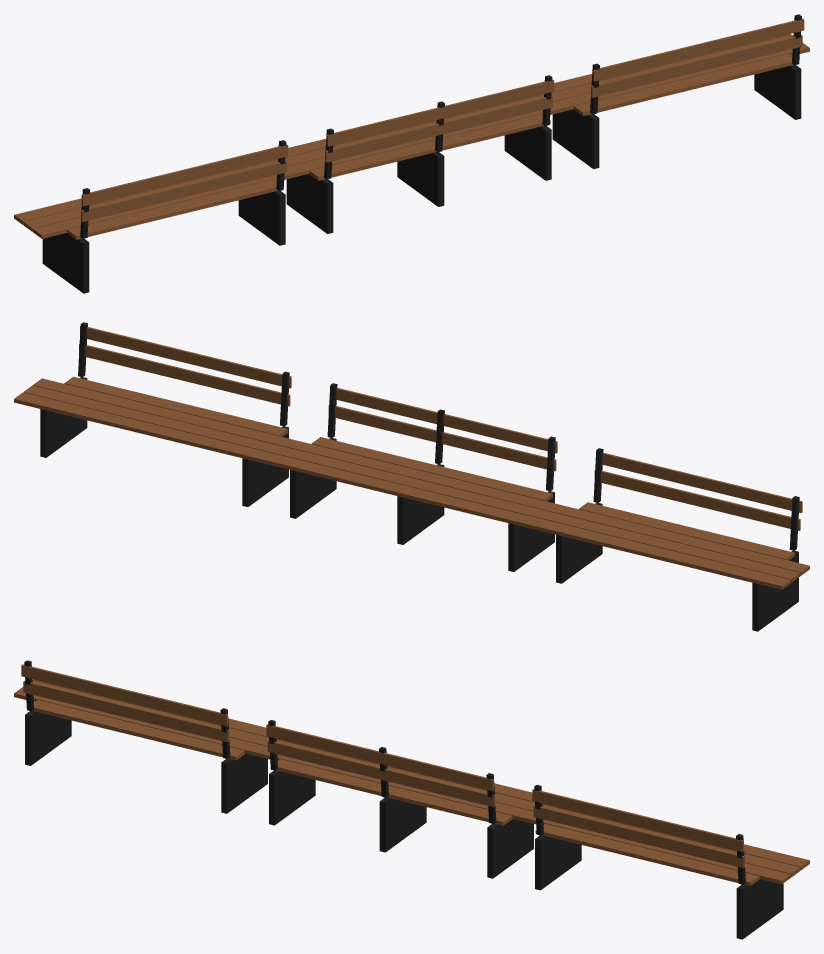
The picture shows the model from 3 angles, top to bottom: view 1: azimuth 30°, elevation 25°; view 2: azimuth 150°, elevation 25°; view 3: azimuth 330°, elevation 25°; orthographic projection.
Visible parts, largest first — view 1: parametric-variant-bench-3rd-ff0a58fc9e4889d8d62c; view 2: parametric-variant-bench-3rd-ff0a58fc9e4889d8d62c; view 3: parametric-variant-bench-3rd-ff0a58fc9e4889d8d62c.
Boxes of the visible parts, box(x1,y1,x2,y2) form: parametric-variant-bench-3rd-ff0a58fc9e4889d8d62c: box(14, 14, 809, 293); parametric-variant-bench-3rd-ff0a58fc9e4889d8d62c: box(14, 322, 809, 631); parametric-variant-bench-3rd-ff0a58fc9e4889d8d62c: box(14, 660, 809, 939).
Size of the model in its own units: 6.6 by 0.85 by 0.6674.
